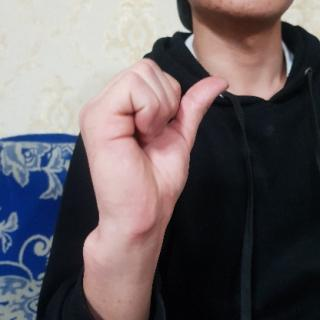WAW: (75, 54, 232, 242)
